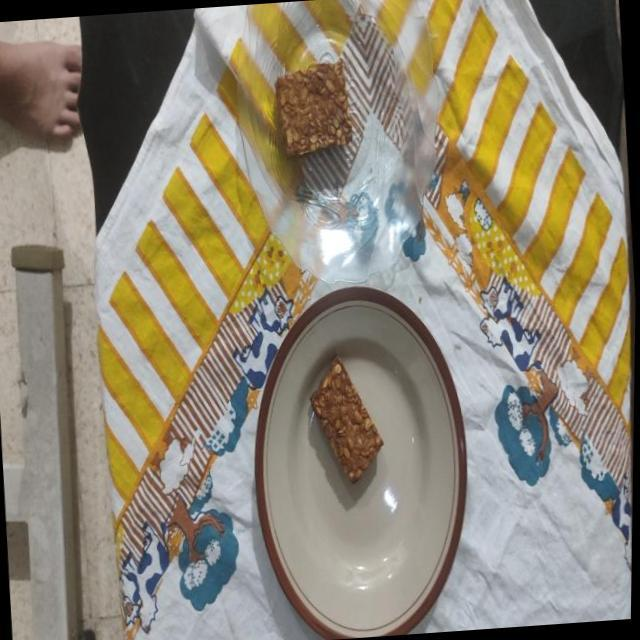tempe_goreng: (310, 356, 382, 482), (276, 60, 352, 156)
